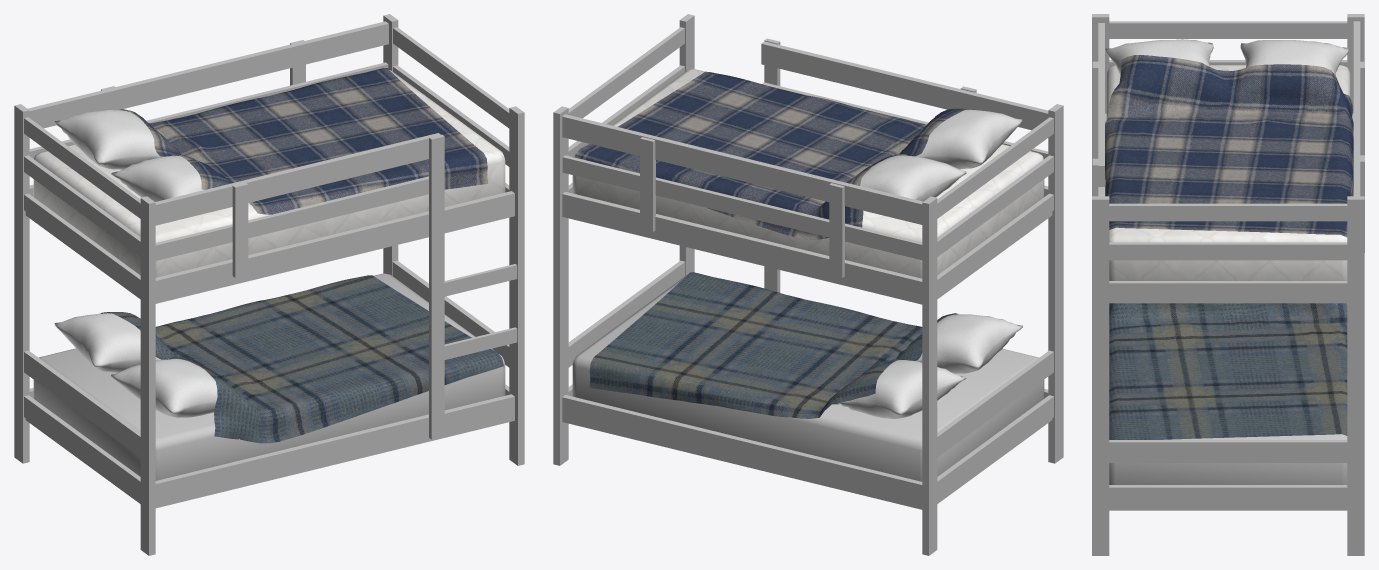
The model's file is Bed.obj.
3 renders of one model, left to right at view 1: azimuth 30°, elevation 25°; view 2: azimuth 150°, elevation 25°; view 3: azimuth 270°, elevation 25°, orthographic.
Visible parts, largest first — view 1: Bed_Frame, Blanket_Bottom, Blanket_Top, Matress_Bottom, Matress_Top, Pillows_Bottom, Pillows_Top; view 2: Bed_Frame, Blanket_Bottom, Blanket_Top, Matress_Bottom, Matress_Top, Pillows_Bottom, Pillows_Top; view 3: Bed_Frame, Blanket_Top, Blanket_Bottom, Matress_Top, Matress_Bottom, Pillows_Top.
Part boxes in pixels (x1,y1,x2,y2): Bed_Frame: (14,14,524,555); Blanket_Bottom: (100,275,503,443); Blanket_Top: (119,68,488,214); Matress_Bottom: (33,273,505,480); Matress_Top: (33,70,505,277); Pillows_Bottom: (54,313,217,417); Pillows_Top: (54,110,203,201); Bed_Frame: (553,14,1063,555); Blanket_Bottom: (589,272,958,418); Blanket_Top: (574,71,976,239); Matress_Bottom: (572,274,1044,481); Matress_Top: (572,69,1044,278); Pillows_Bottom: (837,314,1022,418); Pillows_Top: (860,109,1022,201); Bed_Frame: (1092,14,1364,555); Blanket_Top: (1105,55,1353,237); Blanket_Bottom: (1109,303,1347,439); Matress_Top: (1106,65,1350,280); Matress_Bottom: (1109,303,1347,484); Pillows_Top: (1105,39,1348,74).
Bounding box in the file's own units: 17.2 × 15.4 × 10.69.
